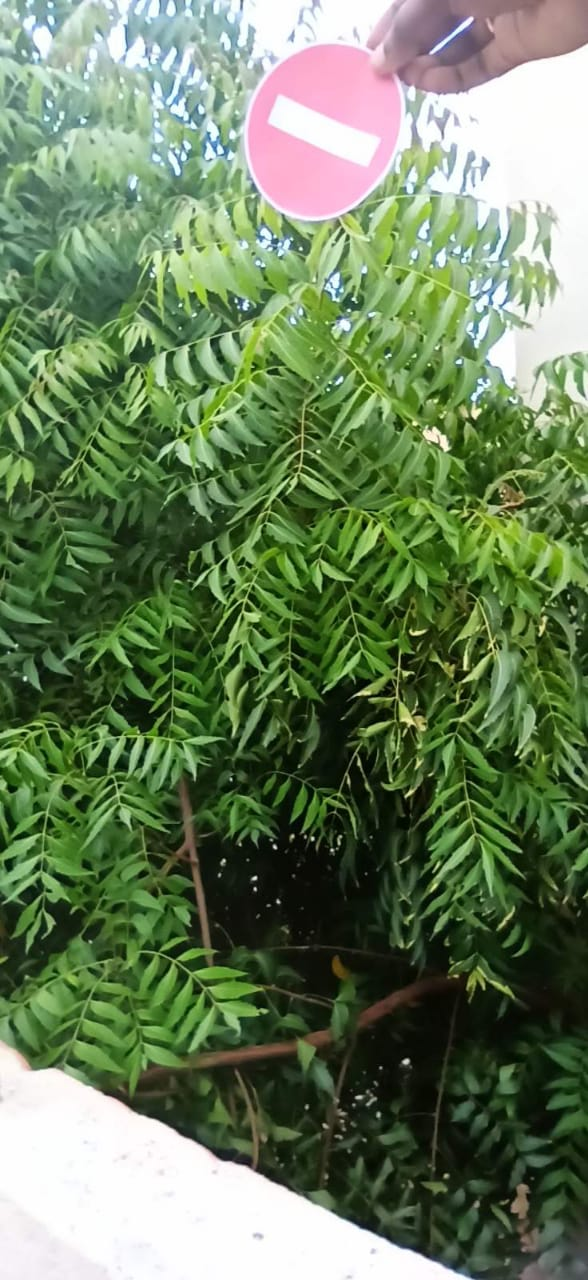NO ENTRY: (225, 29, 421, 229)
